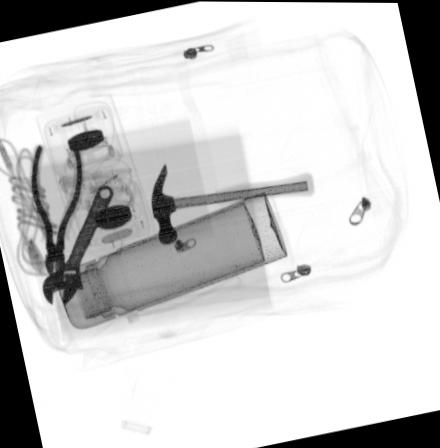Hammer: (150, 162, 316, 243)
Pliers: (27, 142, 84, 277)
Wrench: (41, 183, 113, 304)
